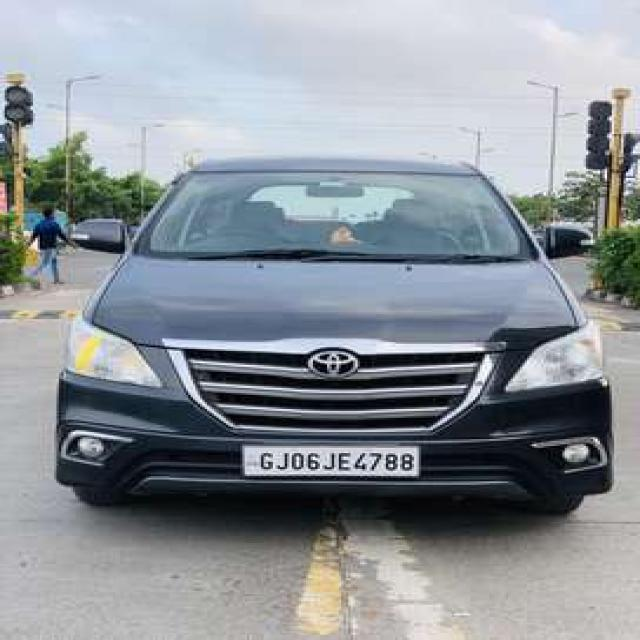Plate: (241, 442, 417, 477)
